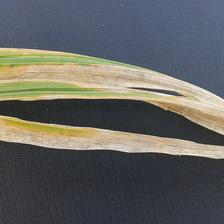2 BacterialBlight: (2, 108, 224, 183), (5, 44, 221, 119)
